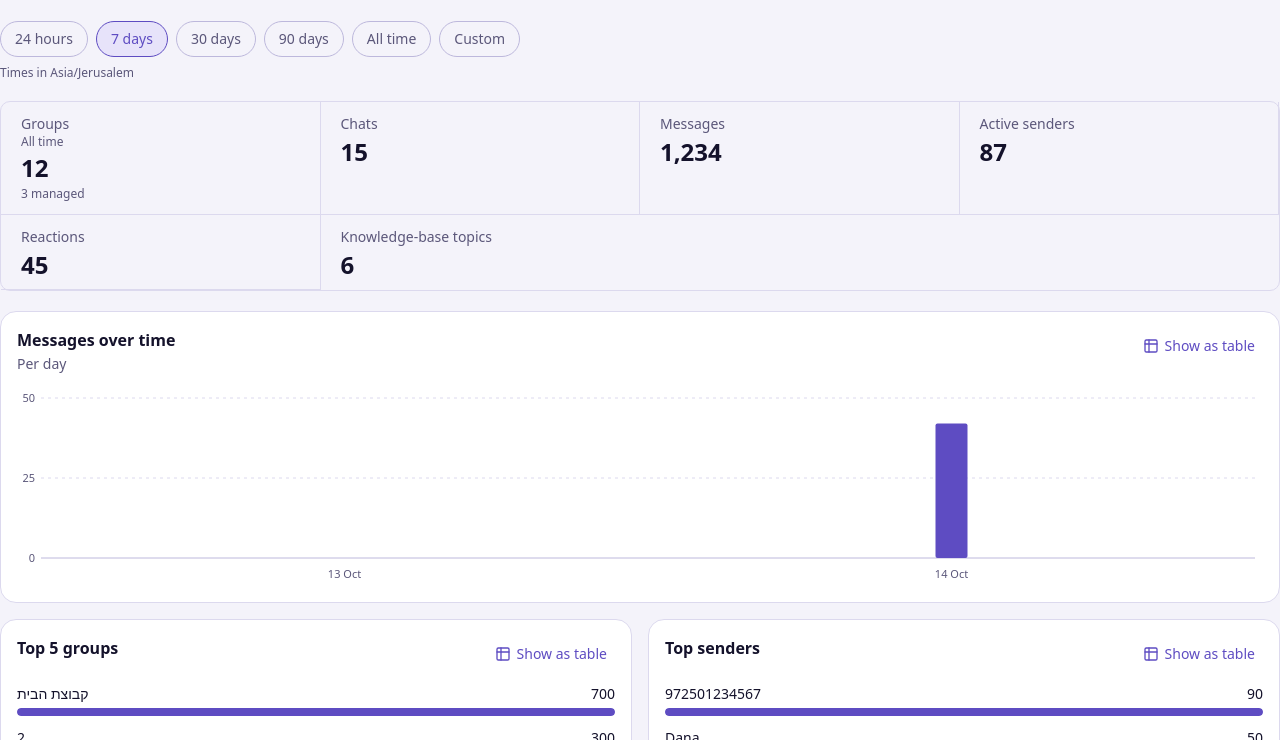
Test: Dashboard request parameters › All time requests ?range=all and writes it to the URL
This screenshot has width=1280, height=740.
Click the button "All time".
click(392, 39)  # box 352,21 -> 431,57
(page scrolled)
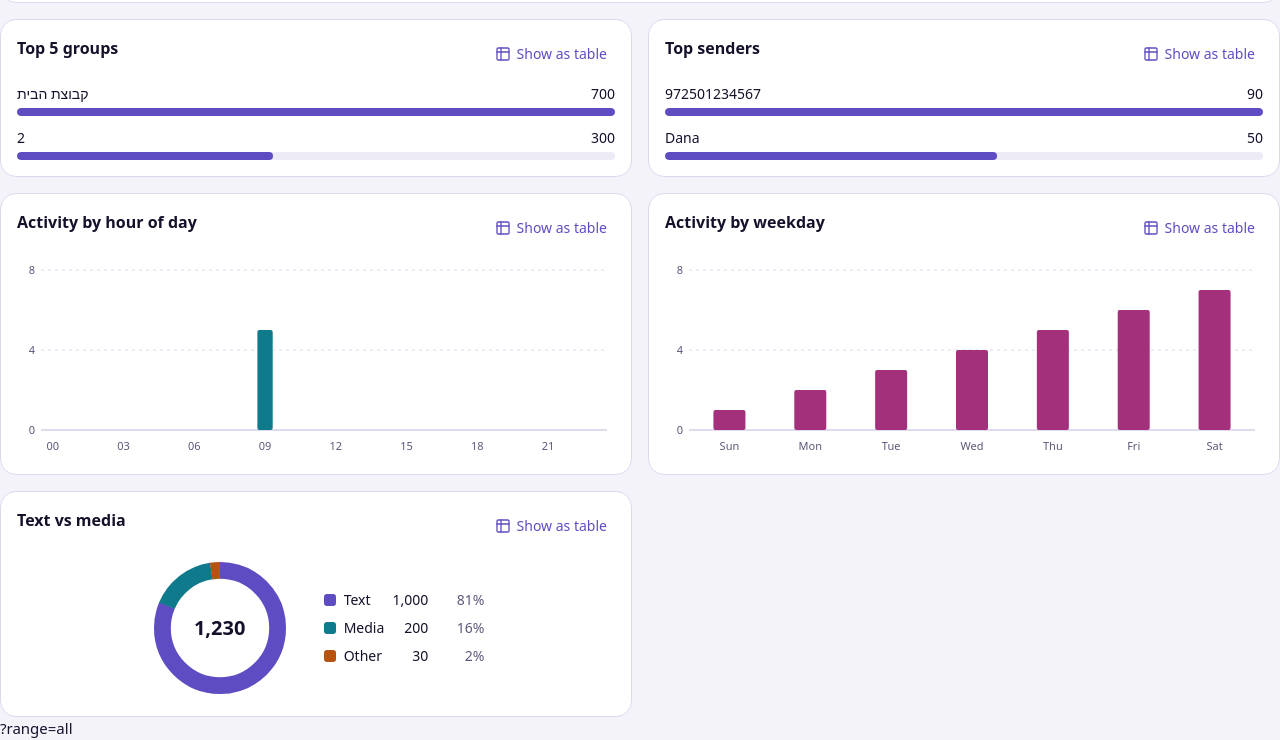
Result: the text with test id "search" reads "?range=all" at 0,718 -> 72,738
